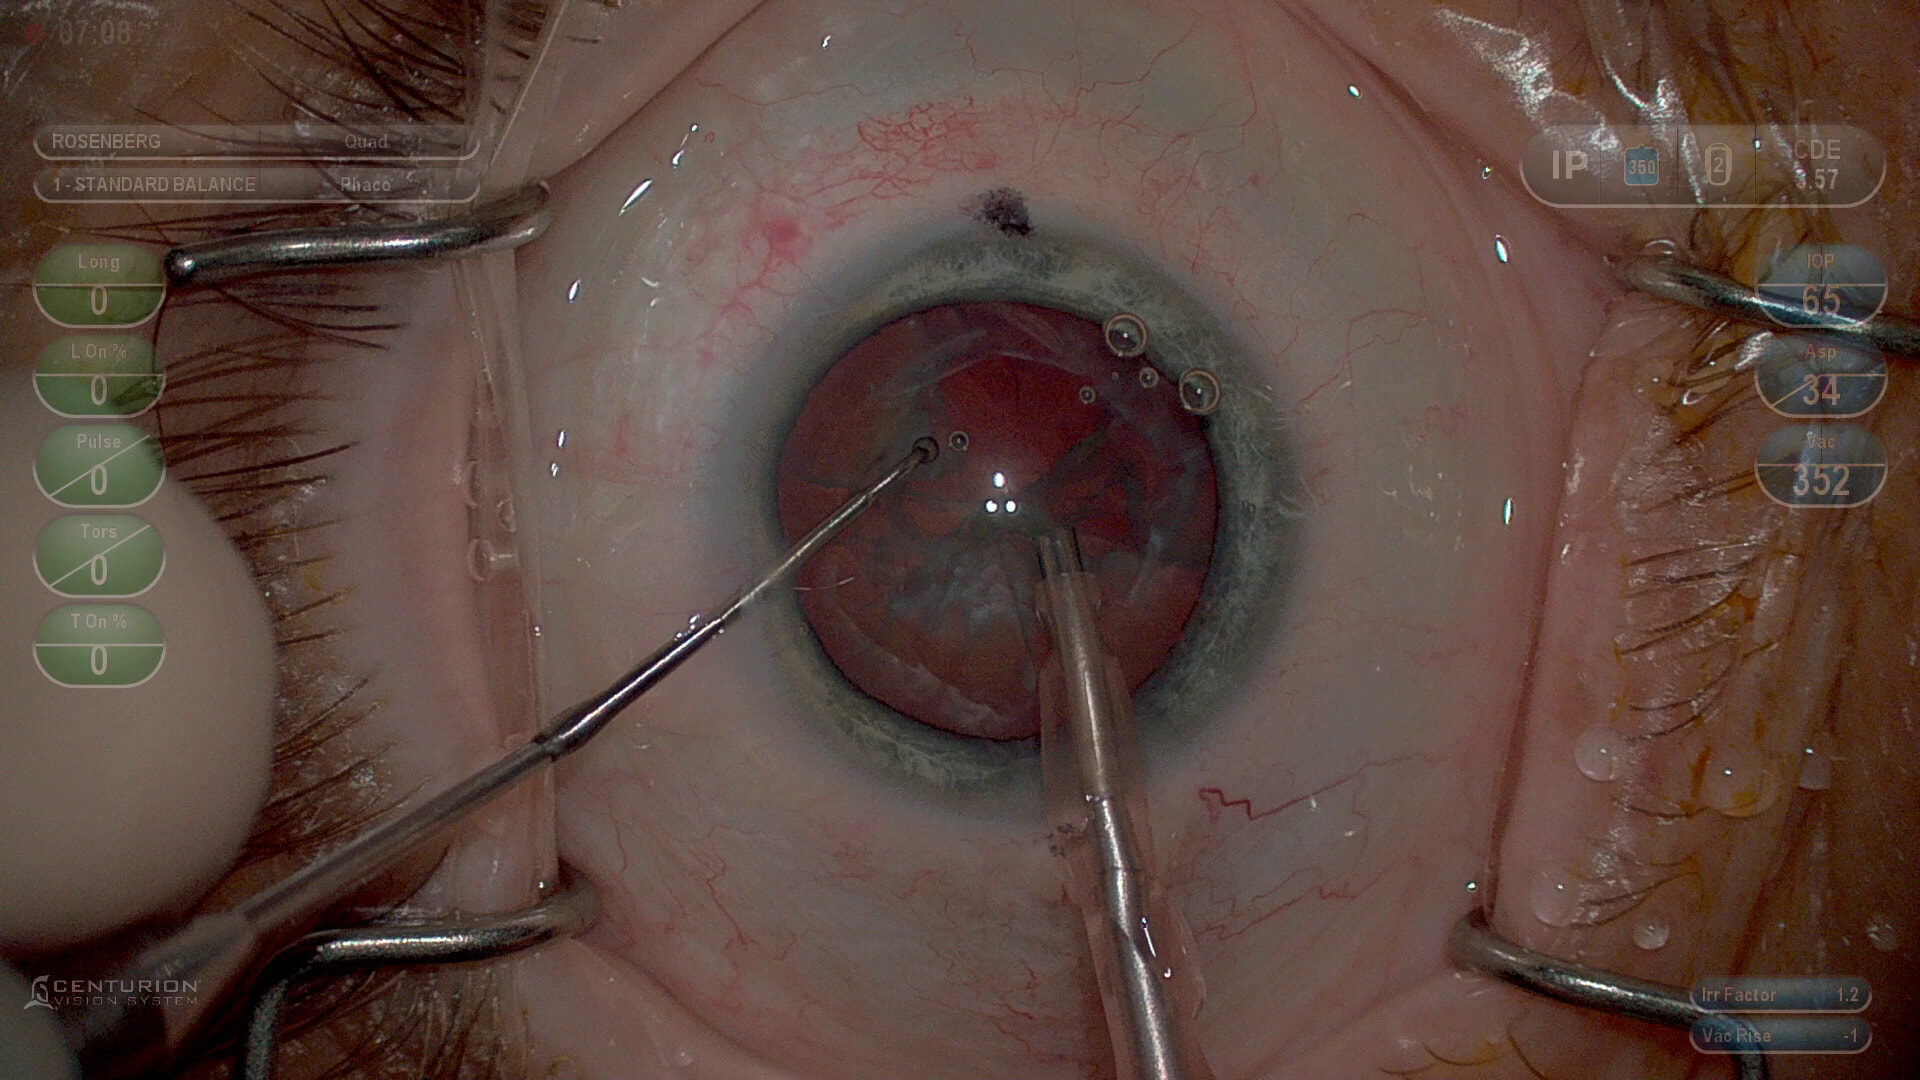iris: (733, 234, 1294, 802)
pupil: (771, 297, 1222, 743)
